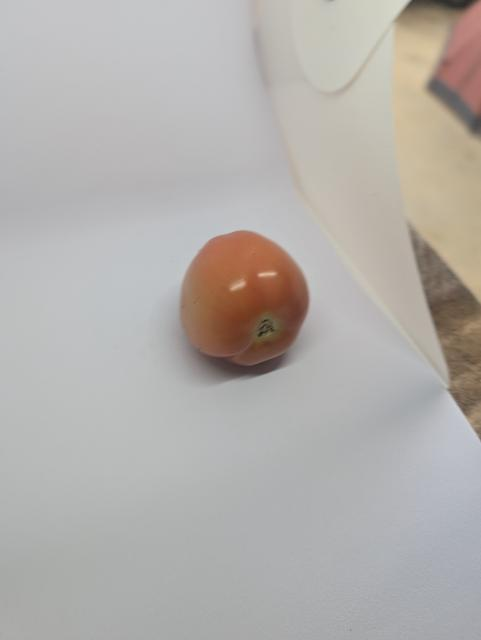turning: (173, 228, 317, 371)
